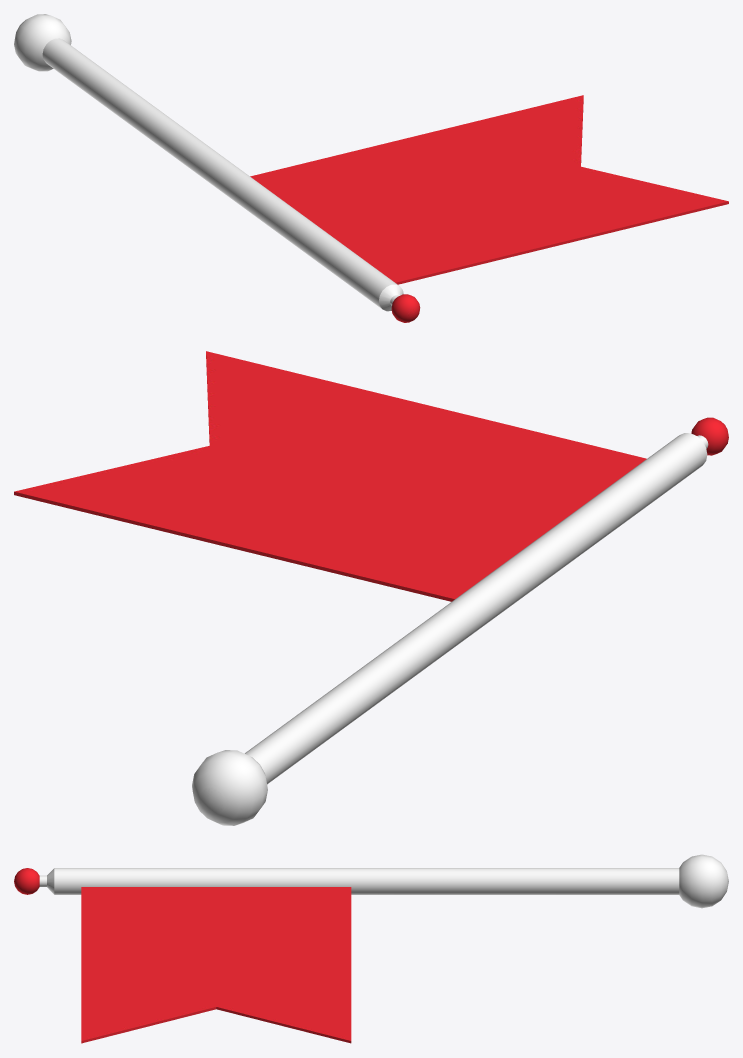
Rendered from brakedot.obj.
The picture shows the model from 3 angles, top to bottom: view 1: azimuth 30°, elevation 25°; view 2: azimuth 150°, elevation 25°; view 3: azimuth 270°, elevation 25°; orthographic projection. The views are drawn at different scales.
Parts seen in each view (by area): view 1: ??; view 2: ??; view 3: ??.
Part boxes in pixels (x1=…): ??: x1=14, y1=14, x2=728, y2=322; ??: x1=14, y1=351, x2=728, y2=825; ??: x1=14, y1=854, x2=728, y2=1043.
Bounding box in the file's own units: 15 × 2 × 26.5.
1 material, 1 textured.
